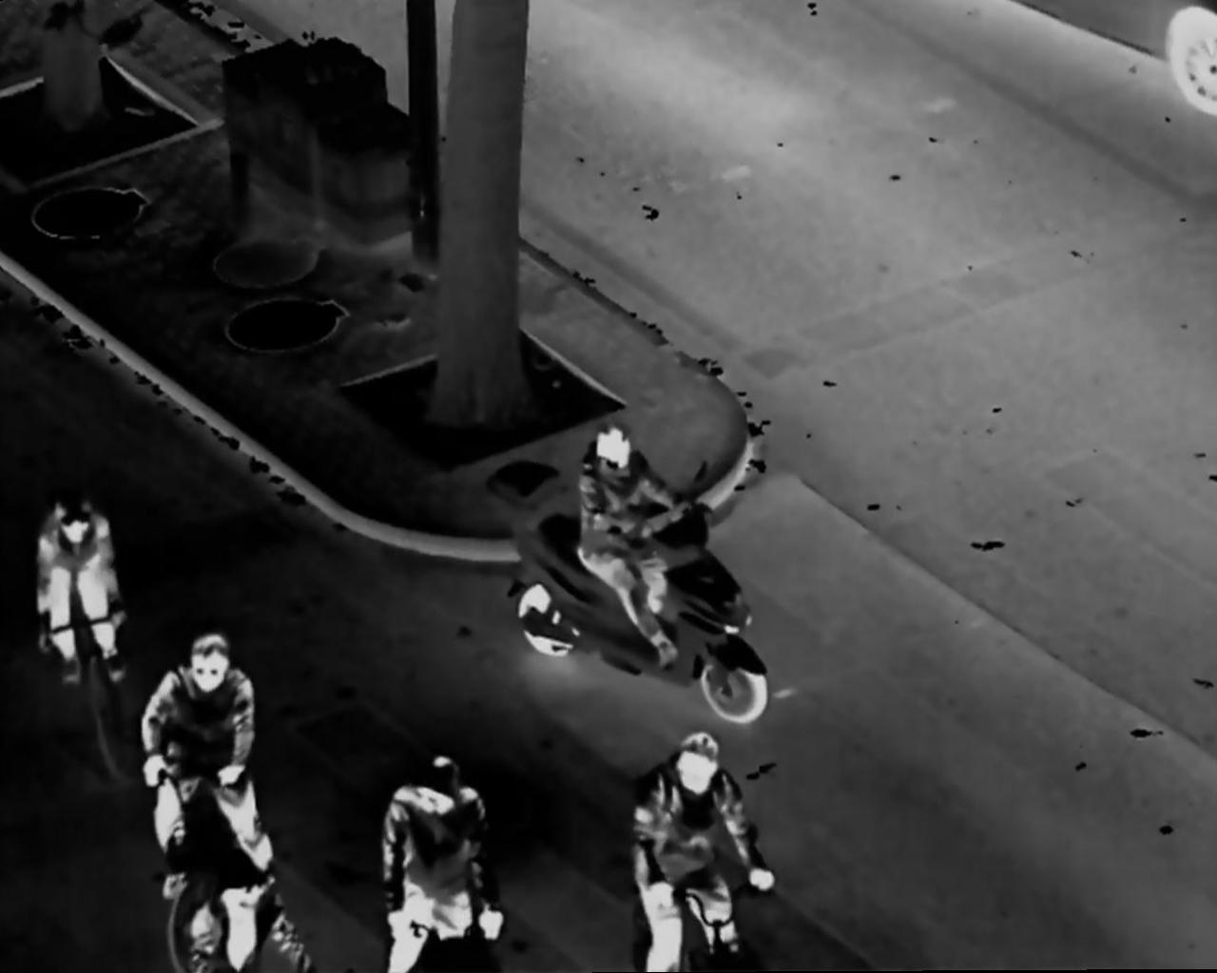person: (570, 416, 707, 671), (632, 734, 777, 973), (145, 632, 276, 880), (375, 751, 508, 973), (39, 496, 126, 683), (183, 861, 299, 973)
